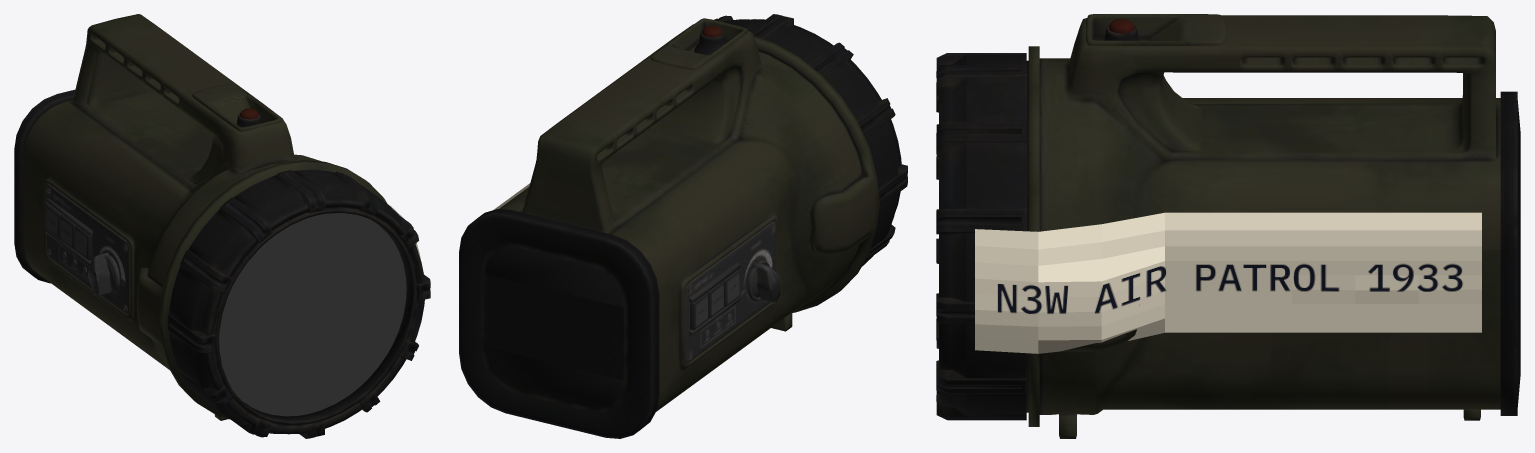
The model's file is nyb_kong_searchlight.glb.
3 renders of one model, left to right at view 1: azimuth 30°, elevation 25°; view 2: azimuth 150°, elevation 25°; view 3: azimuth 270°, elevation 25°, orthographic. The views are drawn at different scales.
Parts seen in each view (by area): view 1: portable_searchlight; view 2: portable_searchlight; view 3: portable_searchlight, stk_lbl_037a128360.png.
Boxes of the visible parts, x1,y1,x2,y2 form: portable_searchlight: [14, 14, 430, 438]; portable_searchlight: [459, 14, 907, 438]; portable_searchlight: [936, 14, 1520, 438]; stk_lbl_037a128360.png: [975, 212, 1481, 353].
Bounding box in the file's own units: 0.1674 × 0.1853 × 0.2534.
3 materials, 3 textured.
